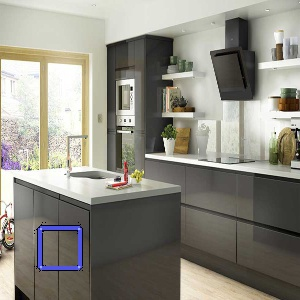square: (35, 222, 85, 274)
